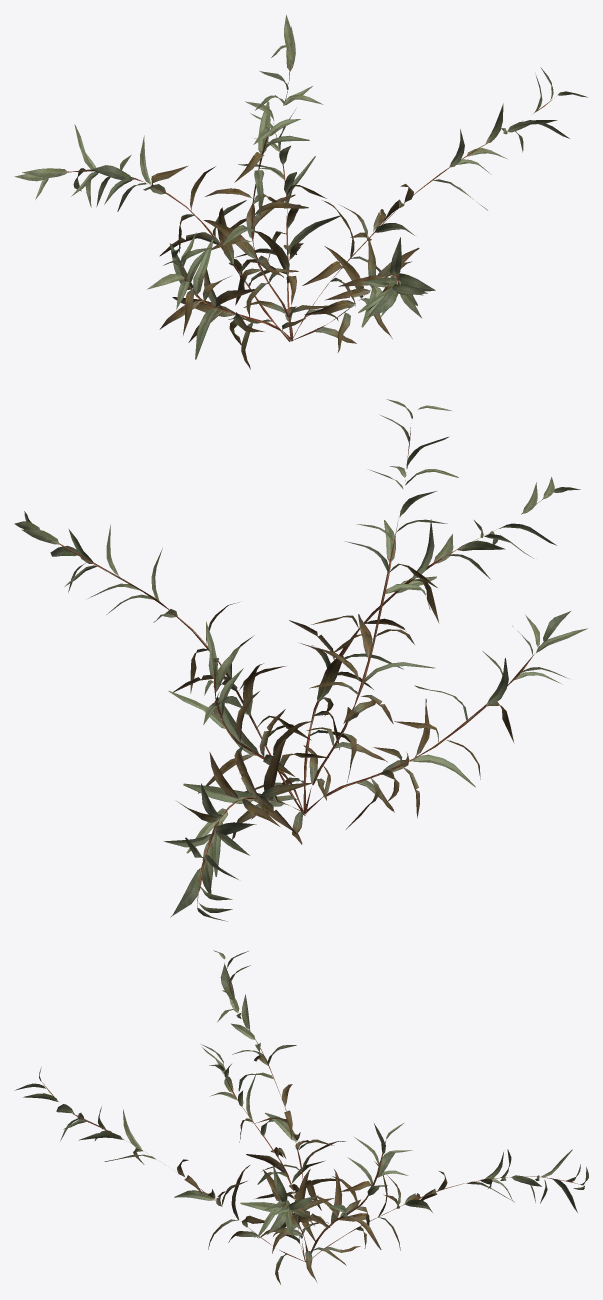
Rendered from shrub_02_c.glb.
3 renders of one model, top to bottom at view 1: azimuth 30°, elevation 25°; view 2: azimuth 150°, elevation 25°; view 3: azimuth 270°, elevation 25°, orthographic. The views are drawn at different scales.
Parts seen in each view (by area): view 1: shrub_02_c; view 2: shrub_02_c; view 3: shrub_02_c.
Boxes of the visible parts, bbox=[...] form: shrub_02_c: bbox=[14, 15, 587, 369]; shrub_02_c: bbox=[14, 399, 587, 921]; shrub_02_c: bbox=[14, 950, 588, 1284].
Size of the model in its own units: 1.77 by 1.31 by 2.29.
1 material, 1 textured.
